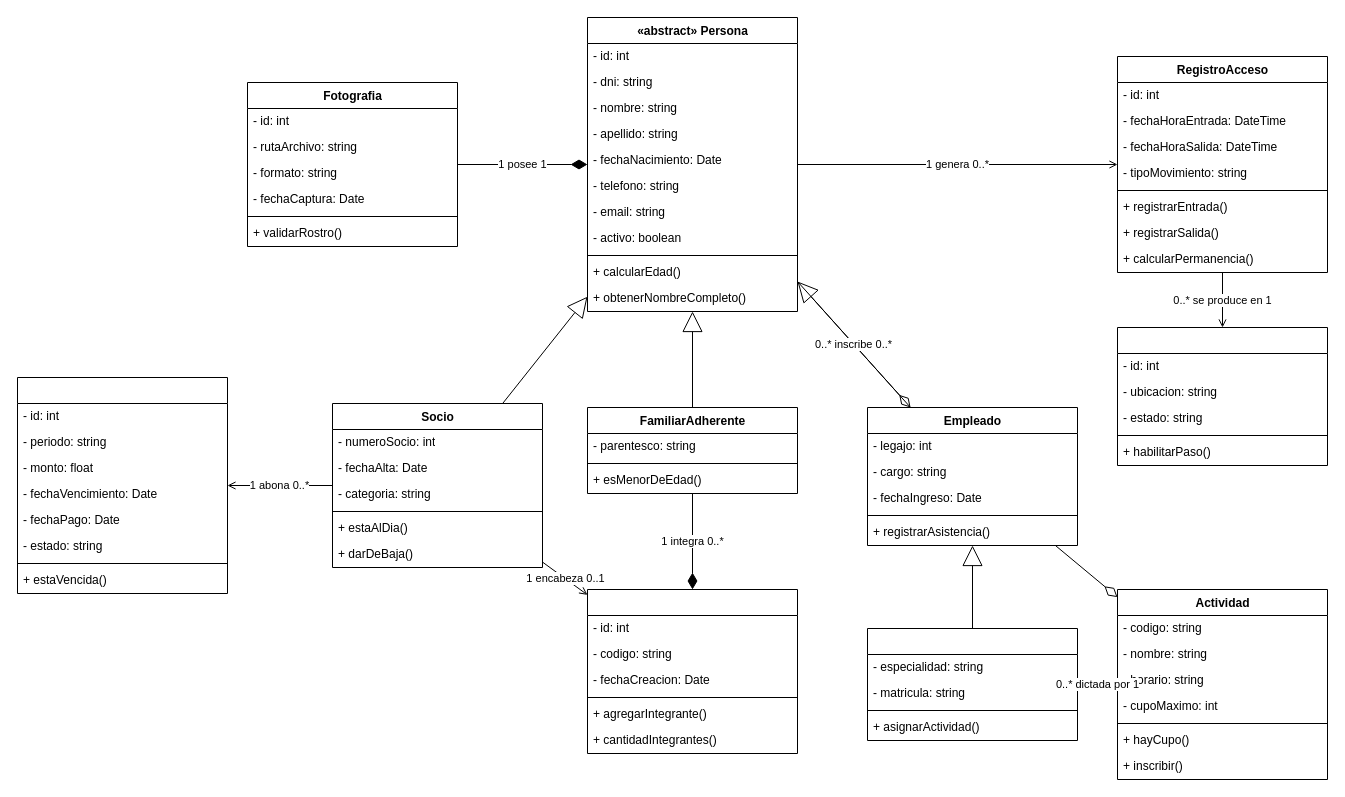
Image size: 1345x797. Some labels were removed from this diagram. The shapes that lost their labels are listed below. From the top down, each one's box as (x1, y1, x2, y2) in pixels, then its label:
(1116, 326, 1328, 466): PuntoDeAcceso
(16, 376, 228, 594): Cuota
(586, 588, 798, 754): GrupoFamiliar
(866, 628, 1078, 740): Profesor
